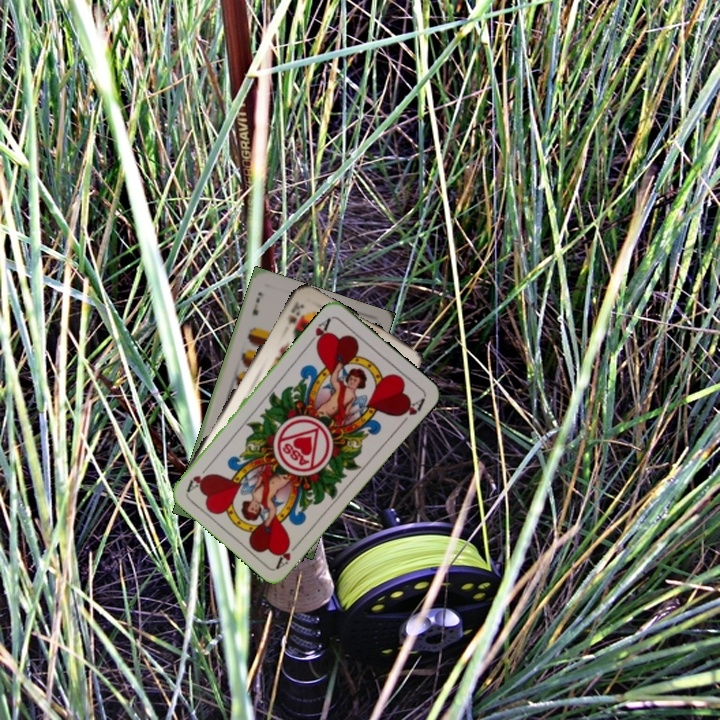E7: (248, 288, 266, 318)
HA: (272, 536, 304, 571), (304, 313, 334, 349)
SK: (284, 297, 307, 328)
